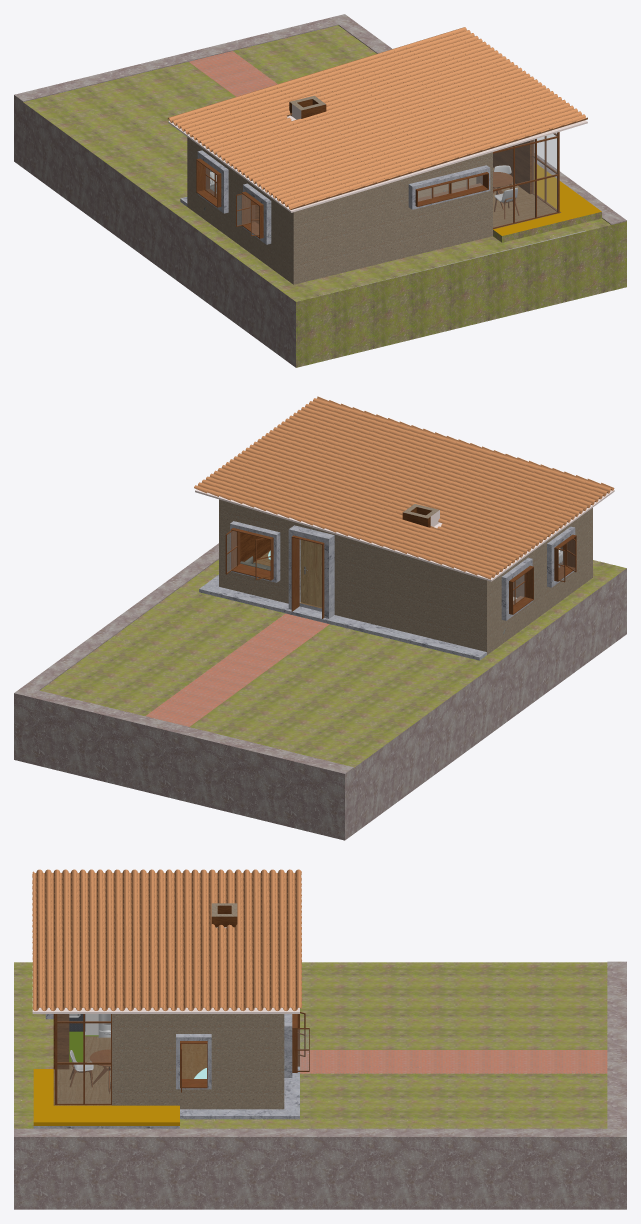
Rendered from jeronimo.glb.
The picture shows the model from 3 angles, top to bottom: view 1: azimuth 30°, elevation 25°; view 2: azimuth 150°, elevation 25°; view 3: azimuth 270°, elevation 25°; orthographic projection. The views are drawn at different scales.
Visible parts, largest first — view 1: Geom3D (×11), Geom3D_; view 2: Geom3D (×10), Geom3D_; view 3: Geom3D (×11), Geom3D_.
Part boxes in pixels (box(x1,y1,x2,y2)): Geom3D (×11): box(14, 14, 626, 367); Geom3D_: box(168, 104, 587, 212); Geom3D (×10): box(14, 396, 626, 840); Geom3D_: box(195, 489, 614, 581); Geom3D (×11): box(14, 869, 626, 1209); Geom3D_: box(32, 922, 299, 1013).
Bounding box in the file's own units: 10.5 × 5.2 × 15.5.
Materials: 546 (488 with a texture image).
